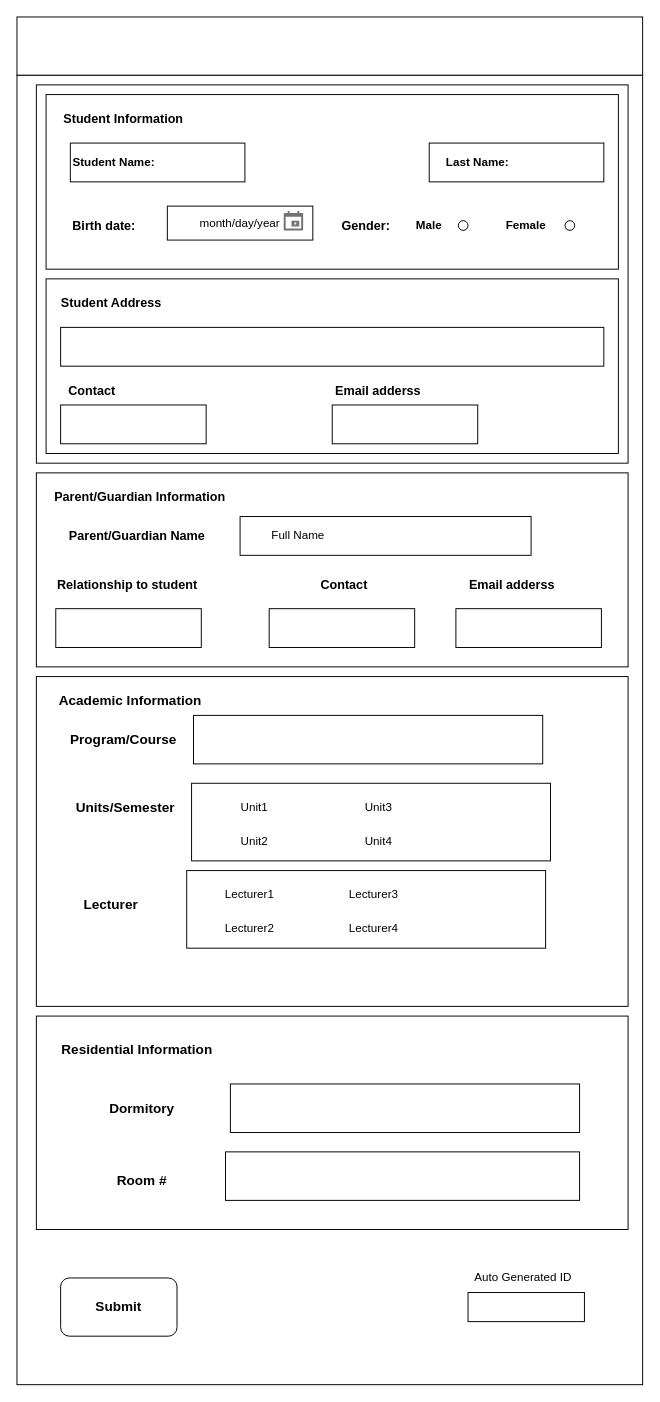
This 660x1402 diagram has some shape labels left out. The centre of each missing label's shape, as x and y in pixels:
Home Address: point (332, 346)
Student Admission Form: point (329, 45)
